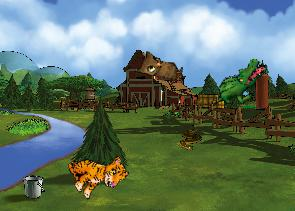crocodile: (211, 49, 269, 118)
owl: (136, 50, 185, 81)
tiger: (62, 139, 131, 205)
